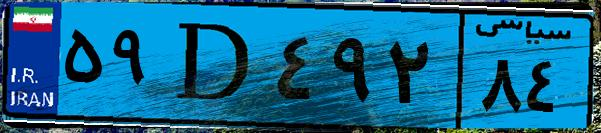2: (385, 28, 445, 110)
4: (270, 28, 330, 110), (525, 38, 570, 115)
5: (57, 26, 110, 100)
8: (475, 38, 525, 113)
9: (330, 28, 385, 110), (110, 28, 158, 98)
D: (158, 12, 270, 120)
